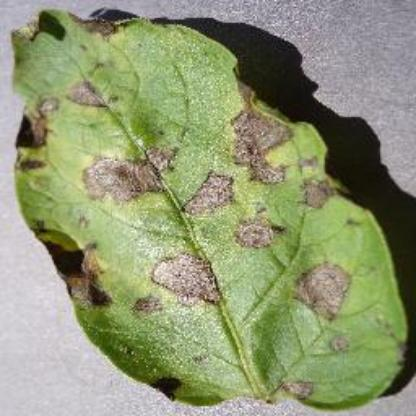Early-Blight: (8, 8, 410, 410)
